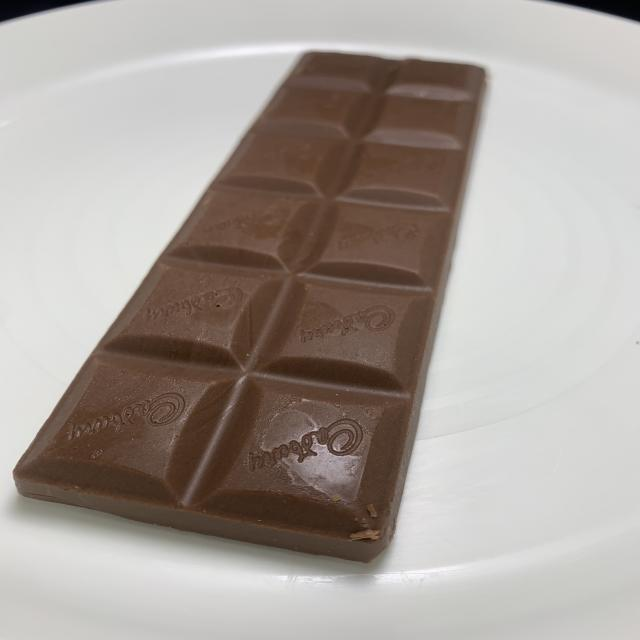chocolate: (32, 46, 495, 562)
